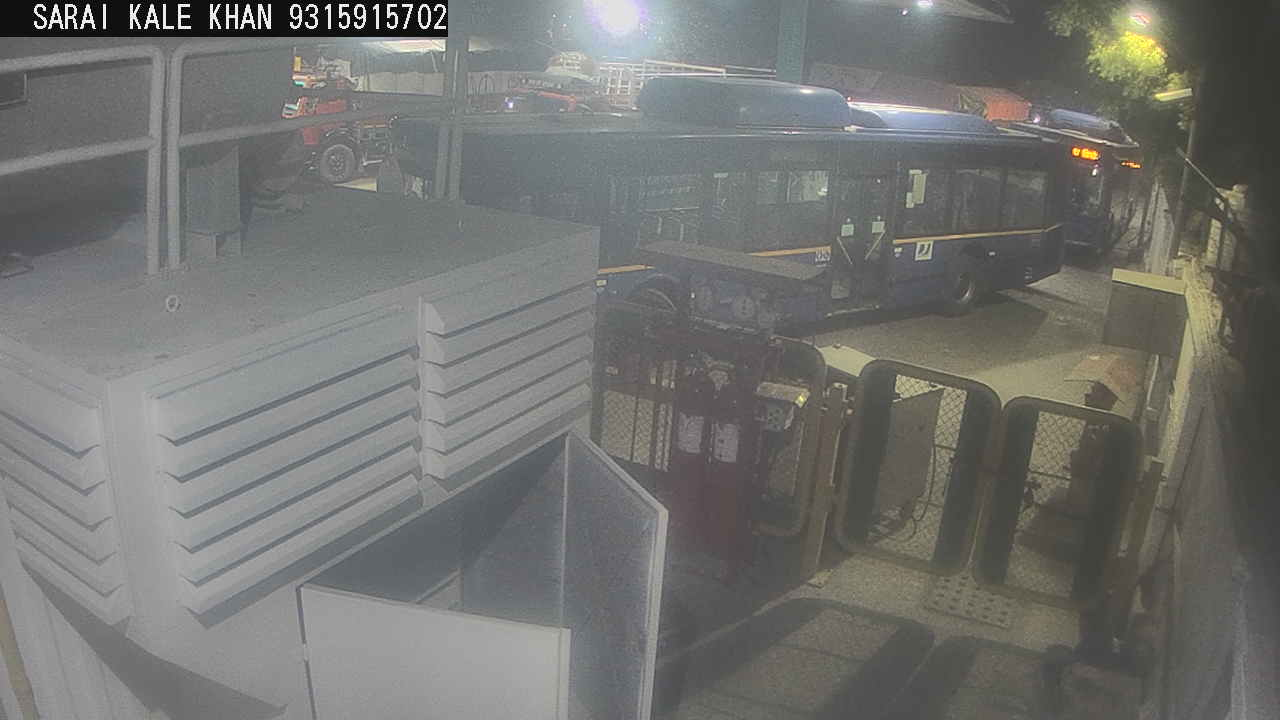HMV: (357, 61, 1084, 379), (985, 96, 1173, 280), (259, 28, 459, 195), (478, 38, 800, 124), (792, 52, 982, 129), (953, 70, 1045, 137)
